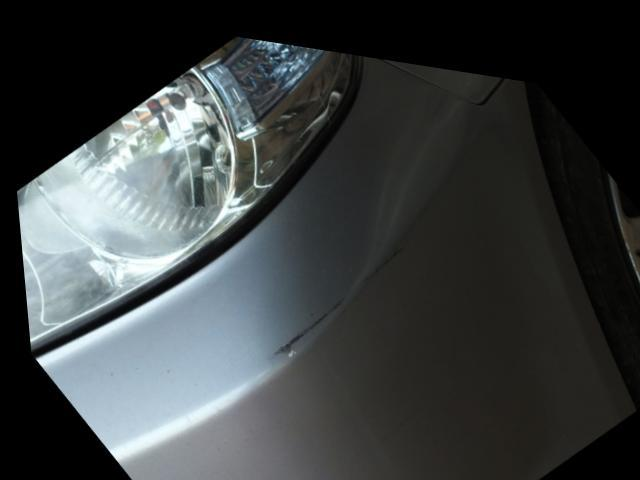scratch: (259, 231, 410, 360)
